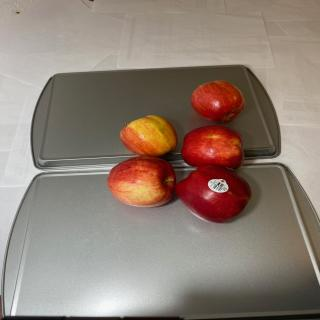Apple: (175, 164, 252, 223), (107, 156, 176, 207), (181, 125, 244, 170), (119, 115, 178, 157), (190, 80, 246, 123)
